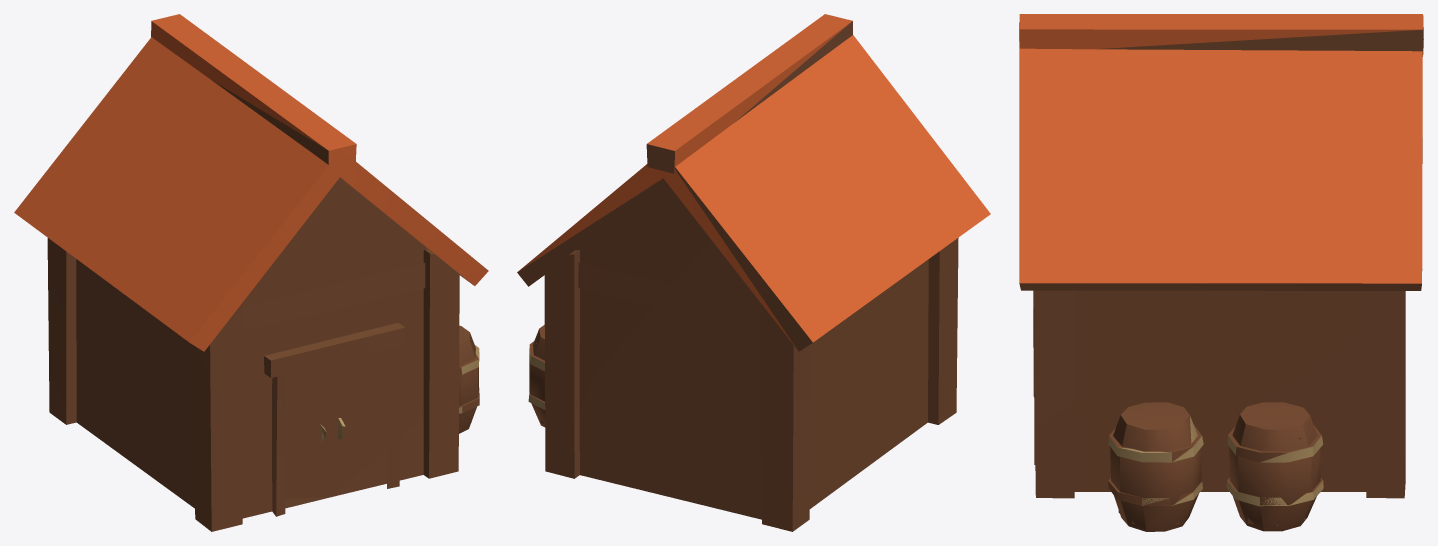
The model's file is supply.glb.
3 renders of one model, left to right at view 1: azimuth 30°, elevation 25°; view 2: azimuth 150°, elevation 25°; view 3: azimuth 270°, elevation 25°, orthographic. The views are drawn at different scales.
Visible parts, largest first — view 1: supply; view 2: supply; view 3: supply.
Boxes of the visible parts, x1=… form: supply: x1=14, y1=14, x2=488, y2=531; supply: x1=517, y1=14, x2=990, y2=531; supply: x1=1019, y1=14, x2=1423, y2=531.
Size of the model in its own units: 0.9 by 0.9 by 0.8089.
